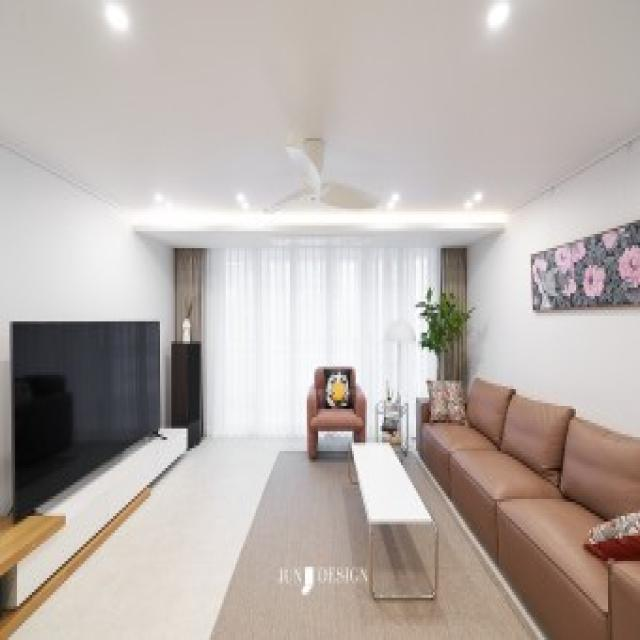Sofa: (450, 372, 638, 640)
Table: (351, 438, 441, 595)
tv: (8, 320, 166, 512)
window: (178, 250, 454, 430)
